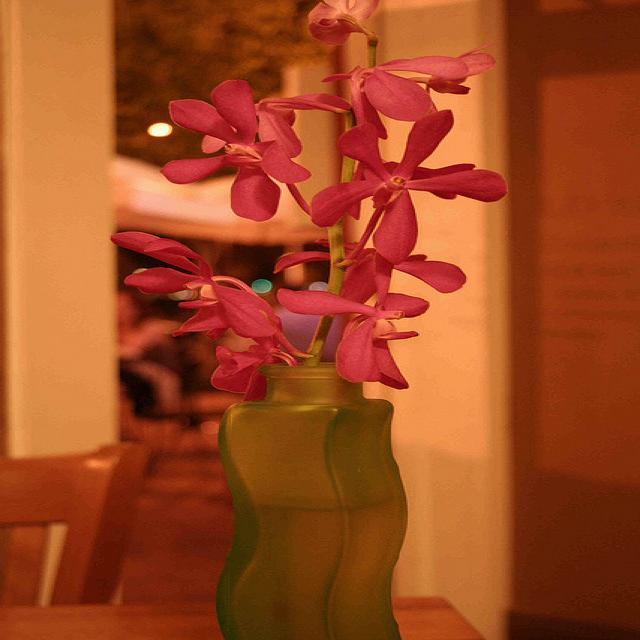chair: (2, 444, 145, 604)
dining table: (2, 594, 486, 634)
